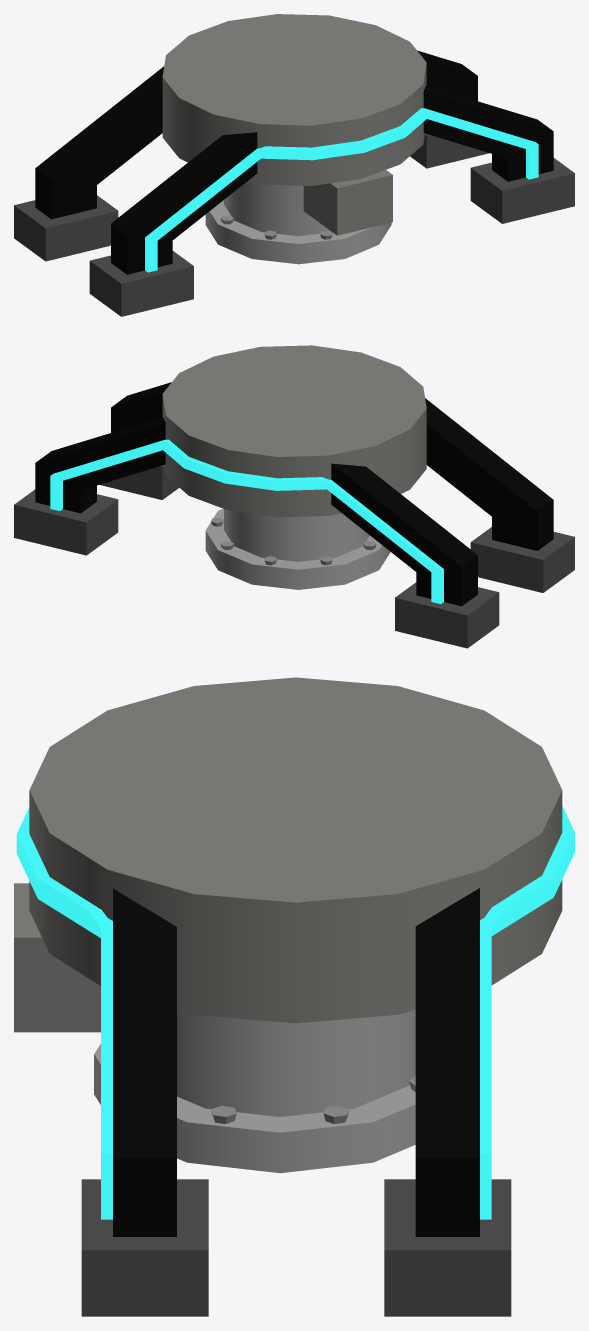
The model's file is well_pump.gltf.
3 renders of one model, top to bottom at view 1: azimuth 30°, elevation 25°; view 2: azimuth 150°, elevation 25°; view 3: azimuth 270°, elevation 25°, orthographic. The views are drawn at different scales.
Visible parts, largest first — view 1: top_0; view 2: top_0; view 3: top_0.
Part boxes in pixels (x1,y1,x2,y2): top_0: (14, 14, 574, 316); top_0: (14, 345, 574, 648); top_0: (14, 677, 574, 1316).
Bounding box in the file's own units: 3.52 × 1.13 × 1.88.
